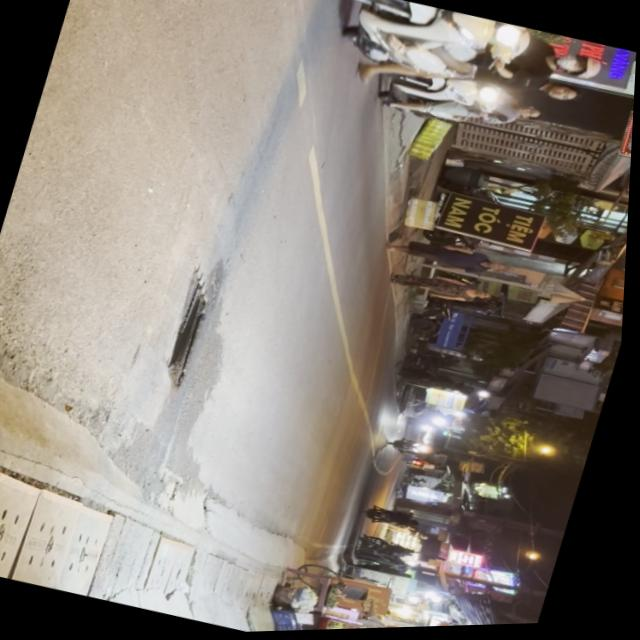helmet: (551, 49, 606, 85)
licenseplate: (315, 0, 613, 128), (369, 54, 553, 149)
motorcyclist: (545, 80, 587, 108), (518, 104, 547, 123)
